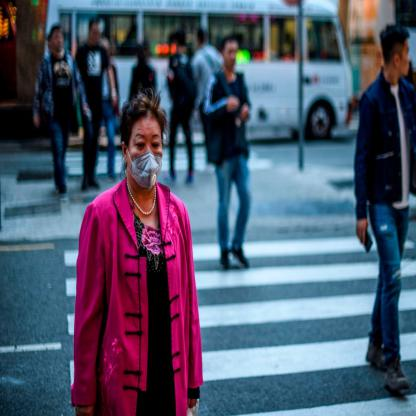Not_Wearing_Mask: (400, 41, 411, 77), (225, 45, 238, 68), (90, 24, 100, 45), (53, 32, 63, 52)
Wearing_Mask: (129, 128, 163, 191)
